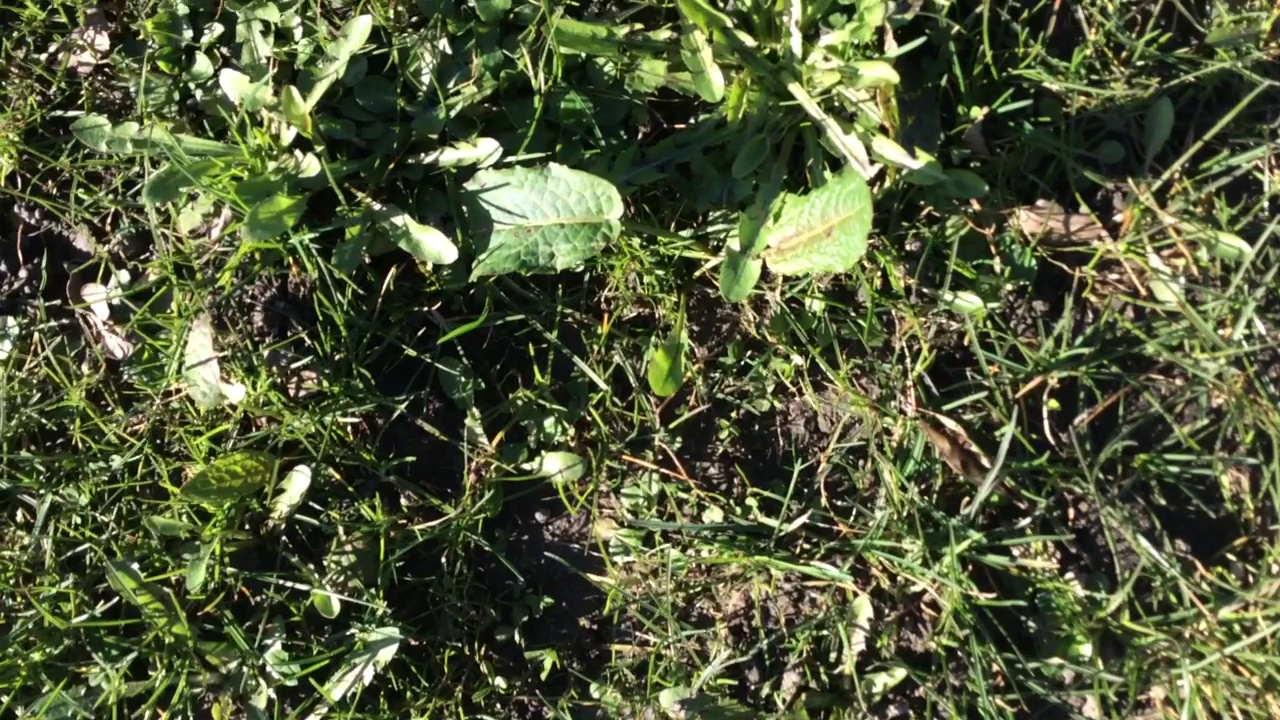rumex: (444, 161, 624, 277), (734, 177, 873, 274)
